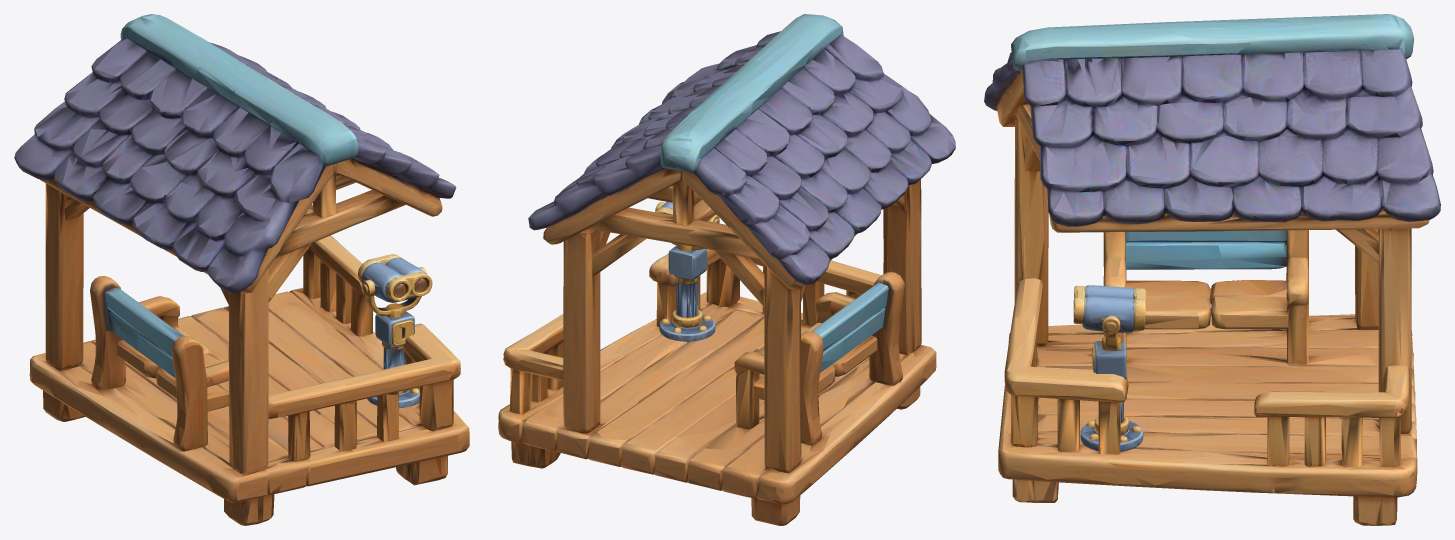
The picture shows the model from 3 angles, left to right: view 1: azimuth 30°, elevation 25°; view 2: azimuth 150°, elevation 25°; view 3: azimuth 270°, elevation 25°; orthographic projection. The views are drawn at different scales.
Parts seen in each view (by area): view 1: F16_Gazebo, F16_TelescopePivot; view 2: F16_Gazebo, F16_TelescopePivot; view 3: F16_Gazebo, F16_TelescopePivot.
Boxes of the visible parts, left/top/right/bottom form: F16_Gazebo: left=14, top=14, right=469, bottom=525; F16_TelescopePivot: left=358, top=254, right=432, bottom=408; F16_Gazebo: left=498, top=14, right=955, bottom=525; F16_TelescopePivot: left=655, top=201, right=719, bottom=342; F16_Gazebo: left=984, top=14, right=1440, bottom=525; F16_TelescopePivot: left=1073, top=285, right=1145, bottom=451.
Size of the model in its own units: 3.12 by 3.5 by 3.5.
Materials: 2 (2 with a texture image).
